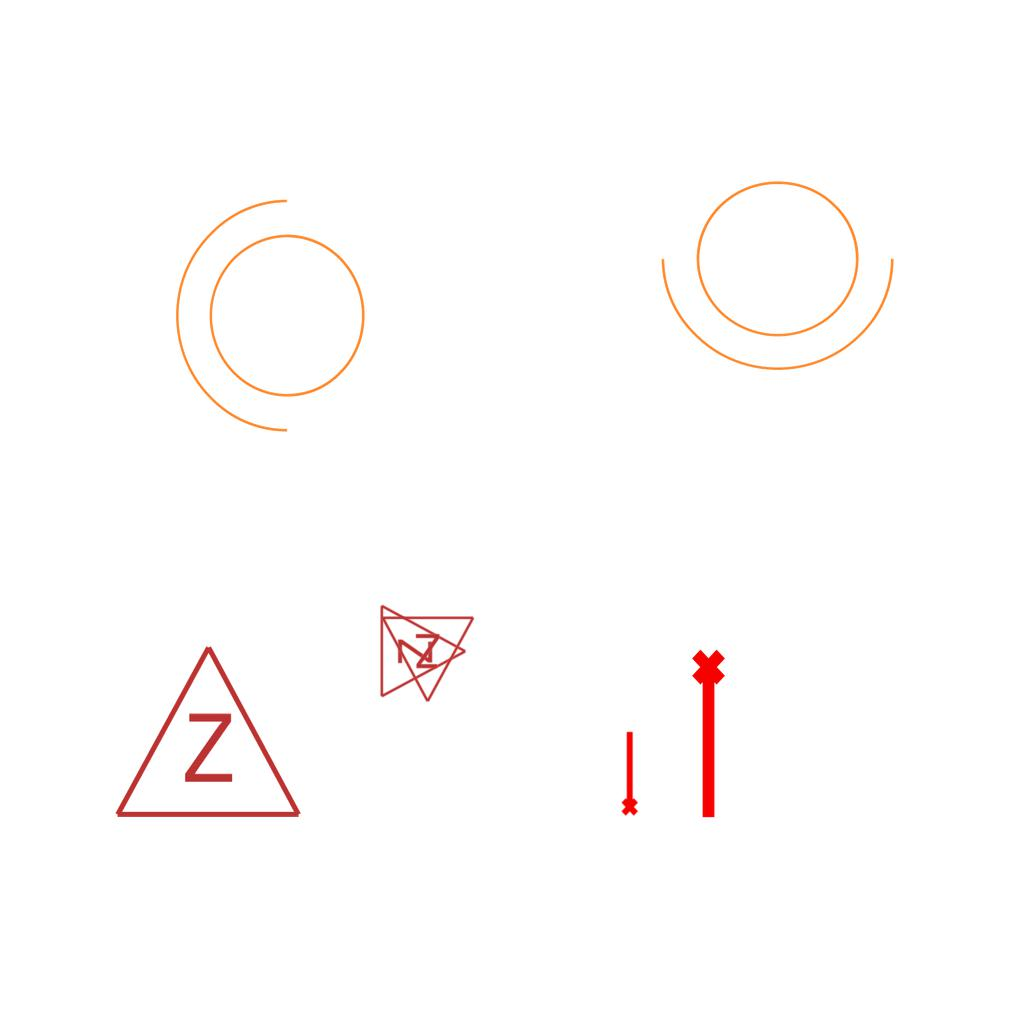ASR_Ansaugoeffnung: (688, 647, 734, 823), (617, 729, 640, 817)
Scheinwerfer_fuer_Alarmbeleuchtung: (652, 156, 916, 381), (165, 190, 390, 454)
Zimmersignalleuchte: (108, 632, 304, 832), (373, 601, 473, 699), (380, 609, 478, 709)
